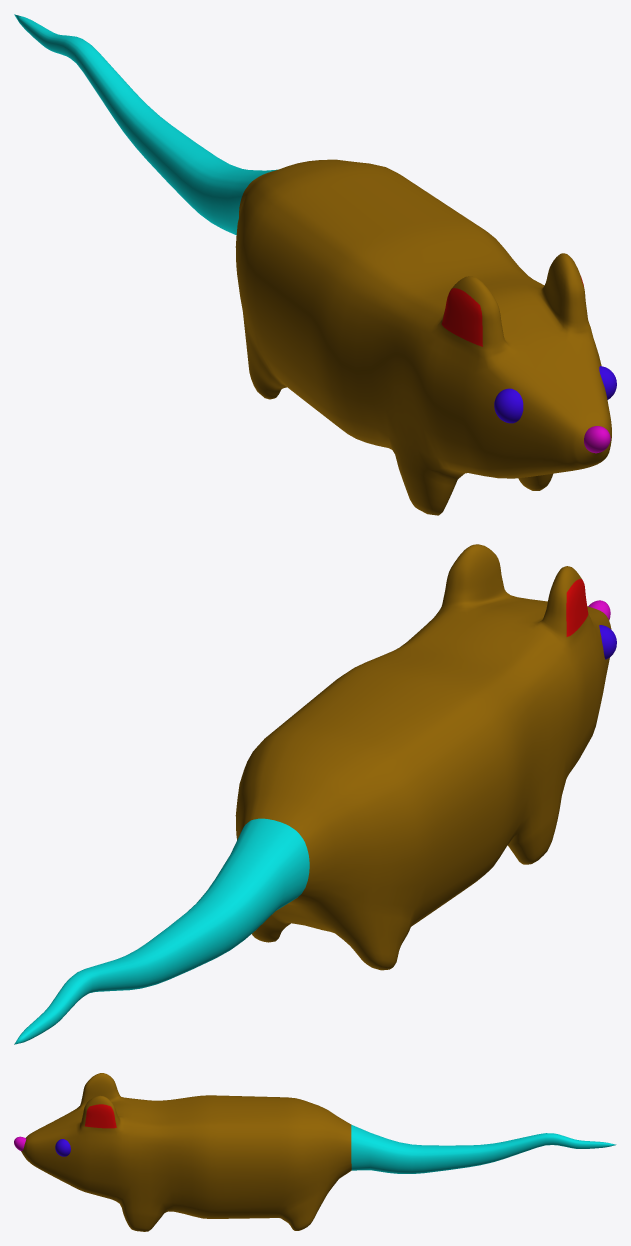
File: Rat L6.fbx
3 views of the same model, one above another, from view 1: azimuth 30°, elevation 25°; view 2: azimuth 150°, elevation 25°; view 3: azimuth 270°, elevation 25° (orthographic). The views are drawn at different scales.
Visible parts, largest first — view 1: the RAT; view 2: the RAT; view 3: the RAT.
Part boxes in pixels (left/top/right/bottom): the RAT: left=14, top=14, right=616, bottom=515; the RAT: left=14, top=544, right=616, bottom=1044; the RAT: left=14, top=1073, right=616, bottom=1231.
Size of the model in its own units: 21.33 by 28.31 by 115.
